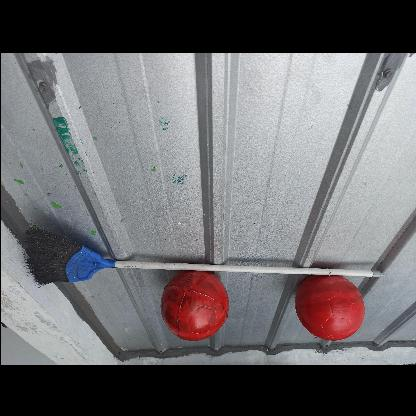red_ball: (158, 268, 230, 340), (296, 272, 364, 342)
